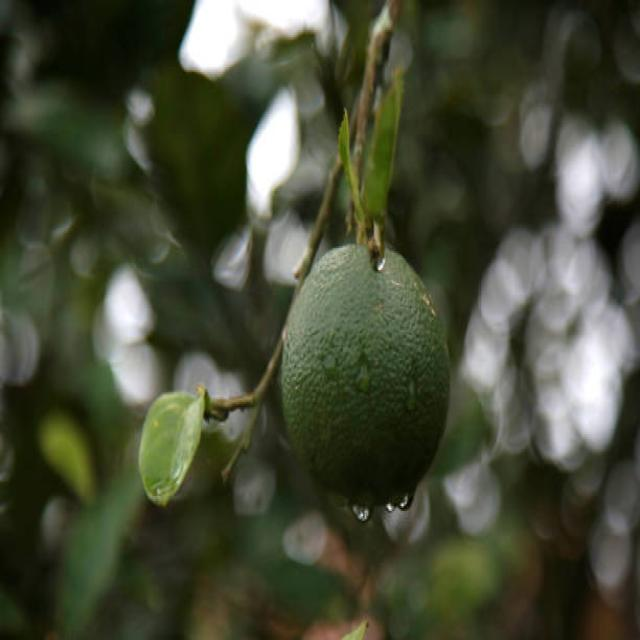Unripe: (282, 236, 450, 508)
